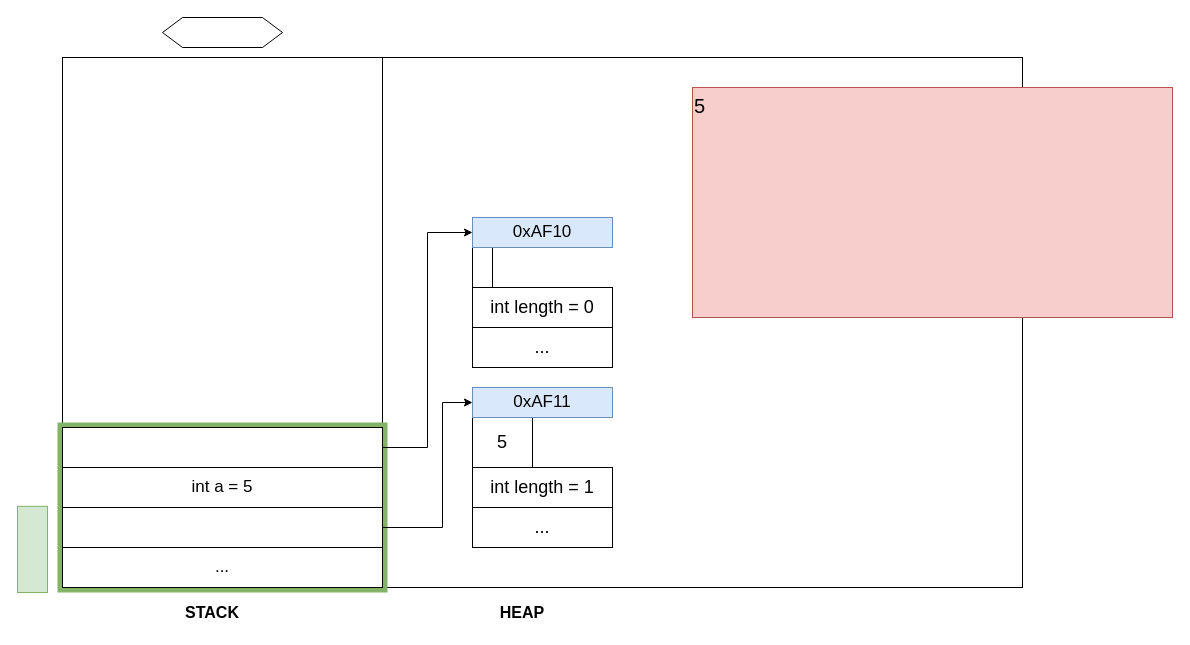
Some shapes in this 1190 by 645 pixel diagram are drawn without their labels. Here are the shapes that lost their labels. From the top down, the centre of each, then its label:
pixel 222 32: main thread
pixel 222 447: String[] args = 0xAF10
pixel 222 527: int[] b = 0xAF11
pixel 32 548: main()
